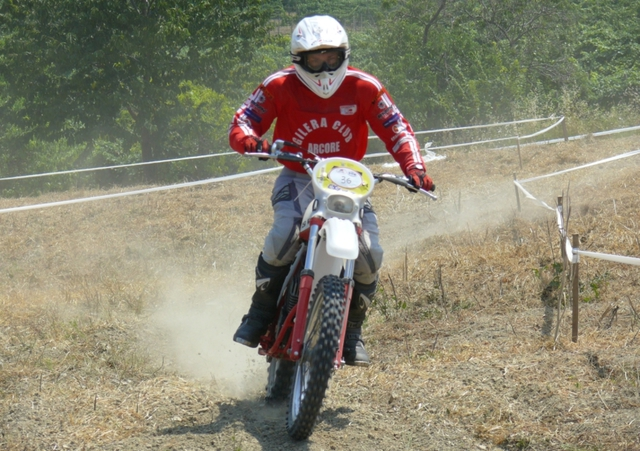helmet: (287, 19, 357, 99)
